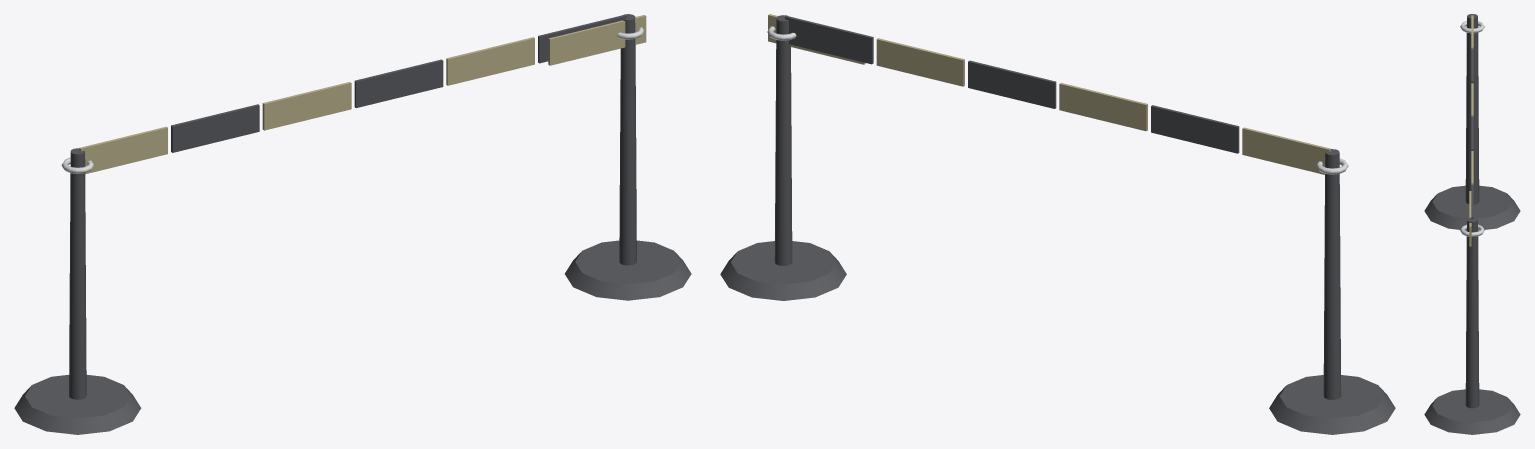
Rendered from tactical-shooter-hill-town-barrier-tape-stand-c2405c14__27540.glb.
3 views of the same model, side by side, from view 1: azimuth 30°, elevation 25°; view 2: azimuth 150°, elevation 25°; view 3: azimuth 270°, elevation 25° (orthographic). The views are drawn at different scales.
Parts seen in each view (by area): view 1: barrier-tape-stand; view 2: barrier-tape-stand; view 3: barrier-tape-stand.
Boxes of the visible parts, x1,y1,x2,y2 form: barrier-tape-stand: (14,14,691,434); barrier-tape-stand: (720,14,1395,434); barrier-tape-stand: (1424,14,1520,434).
Size of the model in its own units: 2.88 by 1.08 by 0.4799.
